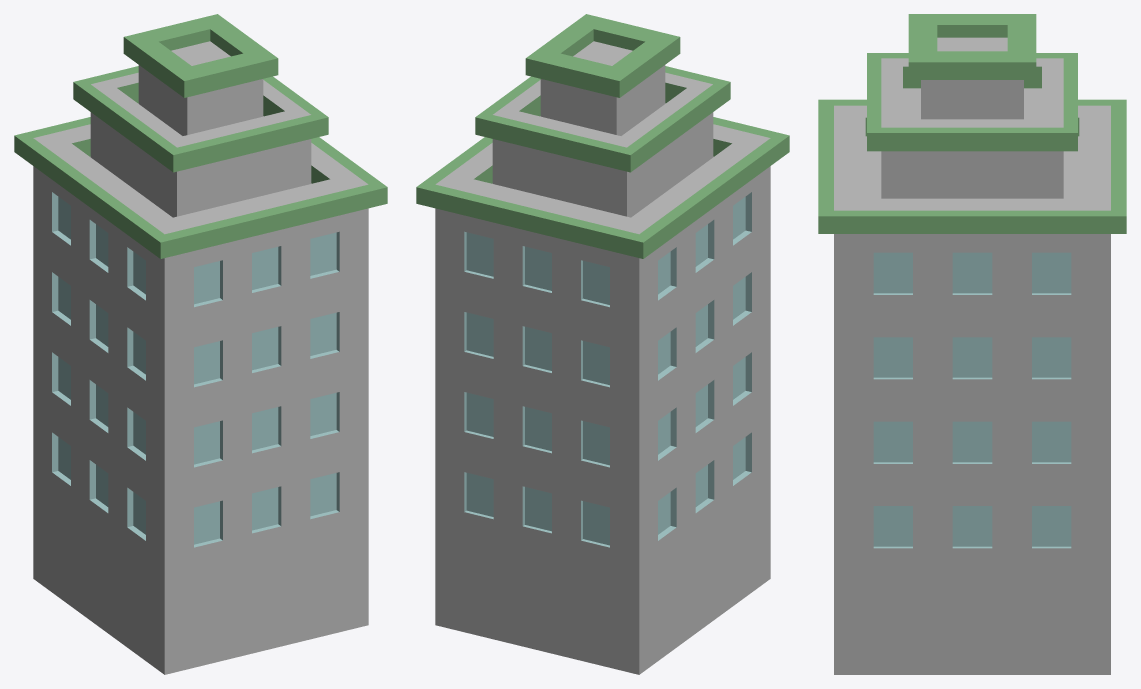
Rendered from haus_4.fbx.
3 renders of one model, left to right at view 1: azimuth 30°, elevation 25°; view 2: azimuth 150°, elevation 25°; view 3: azimuth 270°, elevation 25°, orthographic. The views are drawn at different scales.
Visible parts, largest first — view 1: pCube1; view 2: pCube1; view 3: pCube1.
Boxes of the visible parts, x1,y1,x2,y2 form: pCube1: [14, 14, 387, 674]; pCube1: [416, 14, 789, 674]; pCube1: [818, 14, 1126, 674].
Bounding box in the file's own units: 19.96 × 46.55 × 22.27.
